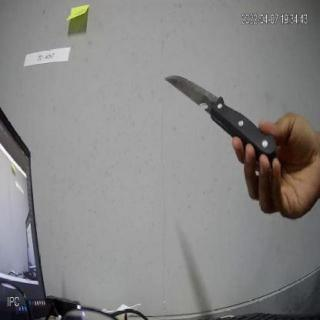knife: (162, 74, 280, 160)
